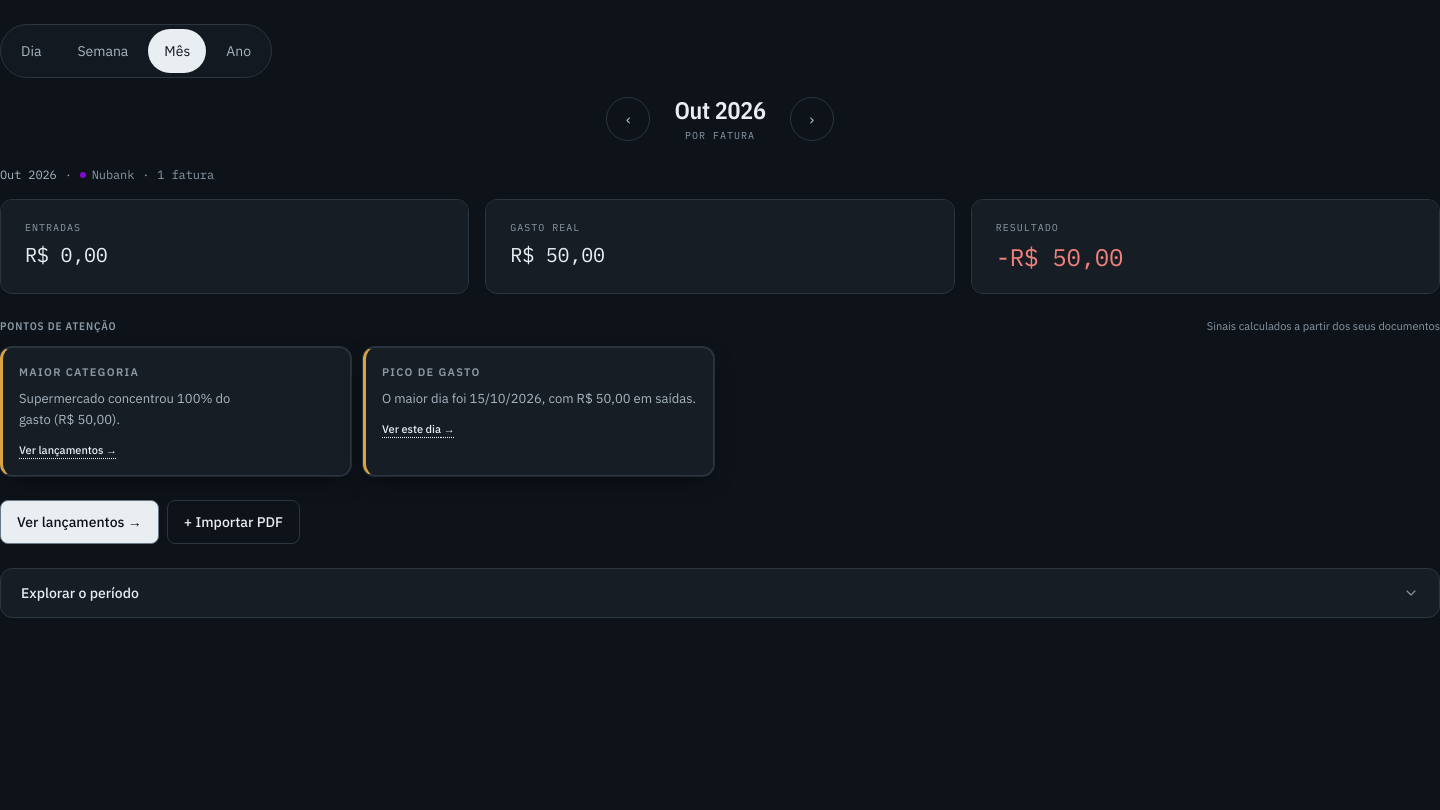
Test: Dashboard — baixar e compartilhar são ações separadas › mostra os dois botões quando o aparelho compartilha arquivos
The image size is (1440, 810).
Click the heading "Explorar o período". click: (80,593)
box: x1=21 y1=584 x2=1419 y2=602
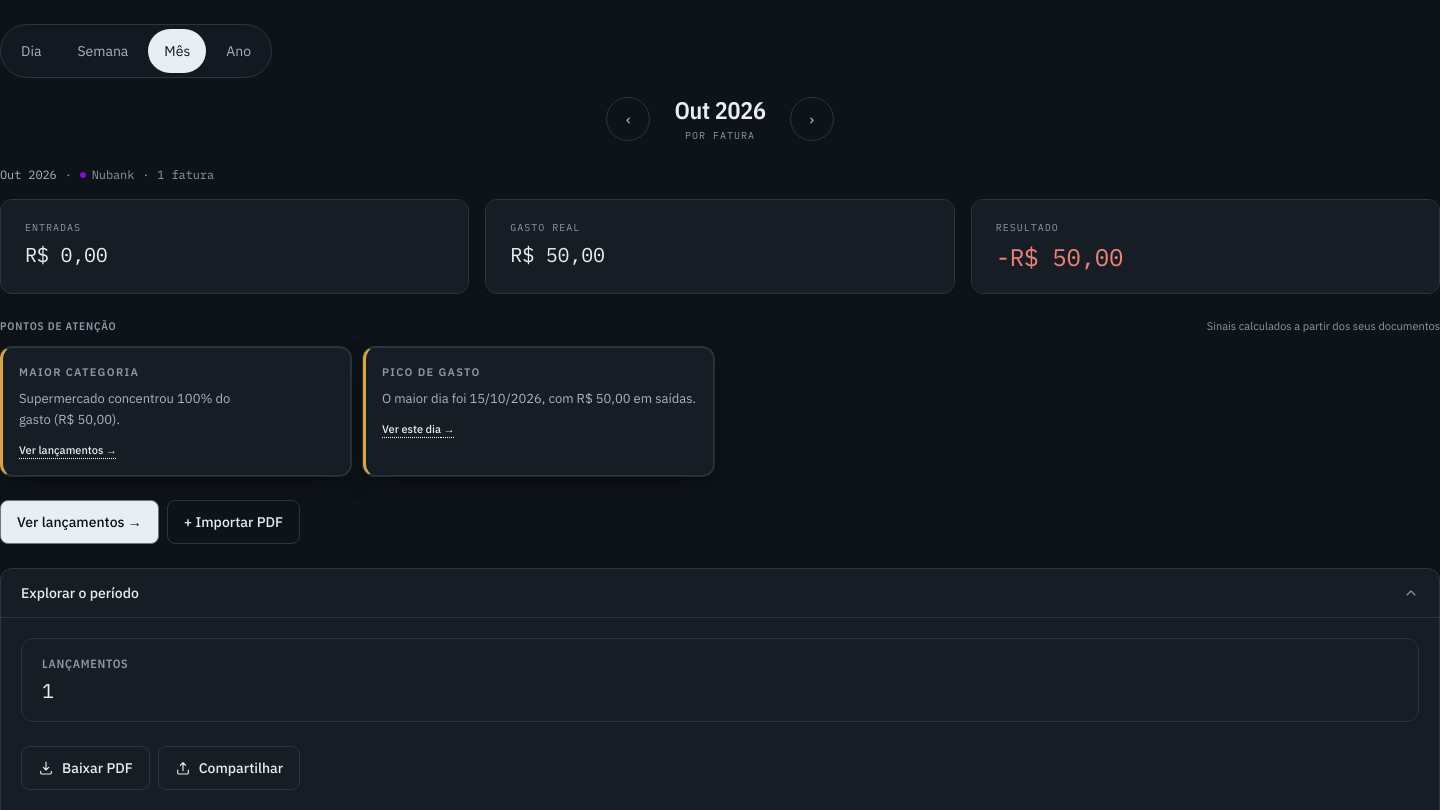
Now the button "Baixar PDF" is shown, box x1=21 y1=746 x2=150 y2=790
Now the button "Compartilhar" is shown, box x1=158 y1=746 x2=300 y2=790
